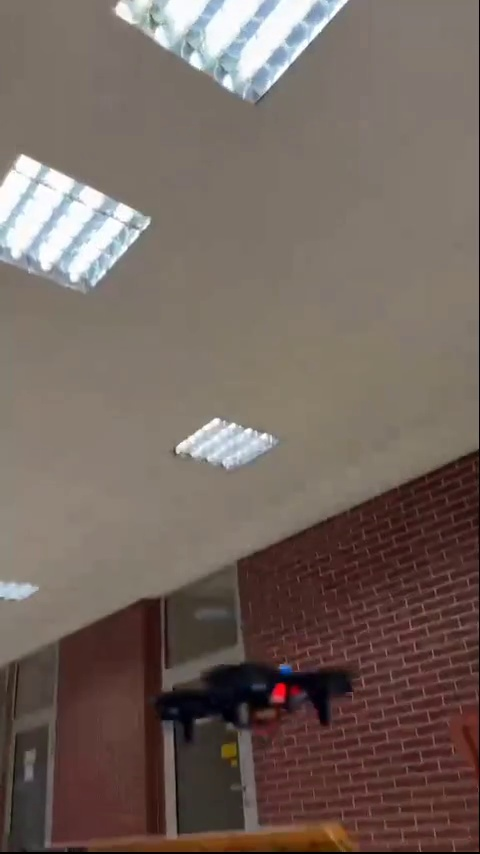drone: (155, 664, 358, 738)
